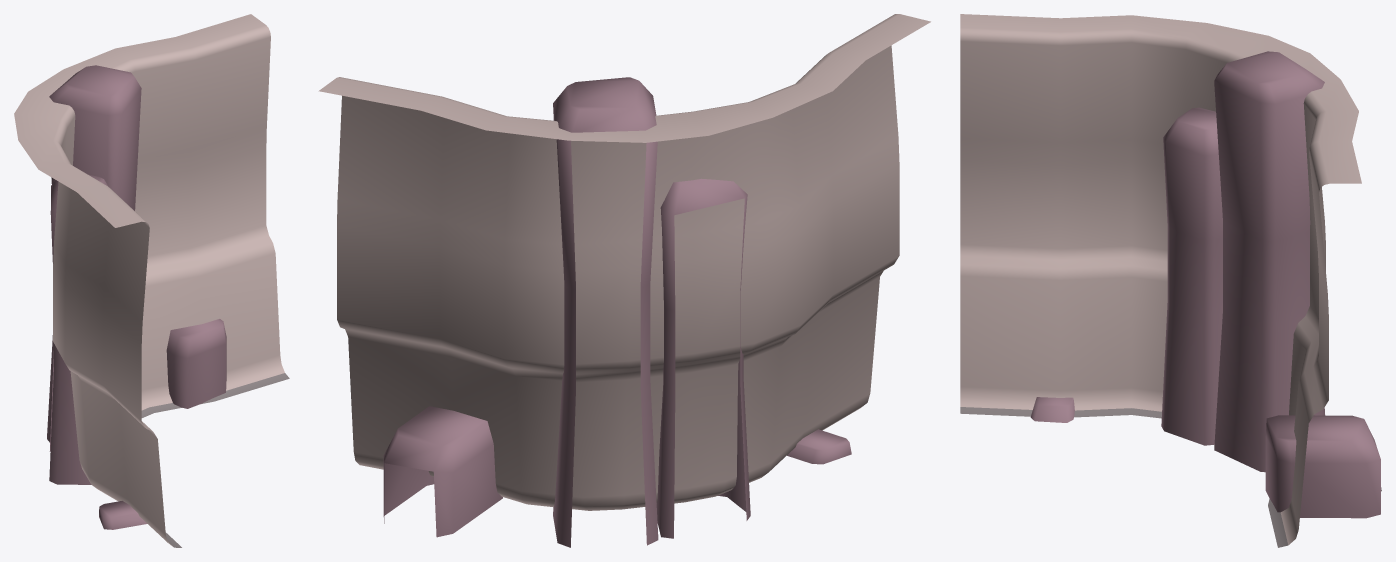
Rendered from 1_Wall_C.glb.
3 renders of one model, left to right at view 1: azimuth 30°, elevation 25°; view 2: azimuth 150°, elevation 25°; view 3: azimuth 270°, elevation 25°, orthographic. The views are drawn at different scales.
Parts seen in each view (by area): view 1: 1_Wall_C; view 2: 1_Wall_C; view 3: 1_Wall_C.
Part boxes in pixels (box(x1,y1,x2,y2)): 1_Wall_C: box(14, 14, 289, 547); 1_Wall_C: box(318, 14, 930, 547); 1_Wall_C: box(960, 14, 1381, 547).
Bounding box in the file's own units: 4 × 4.24 × 4.2.
